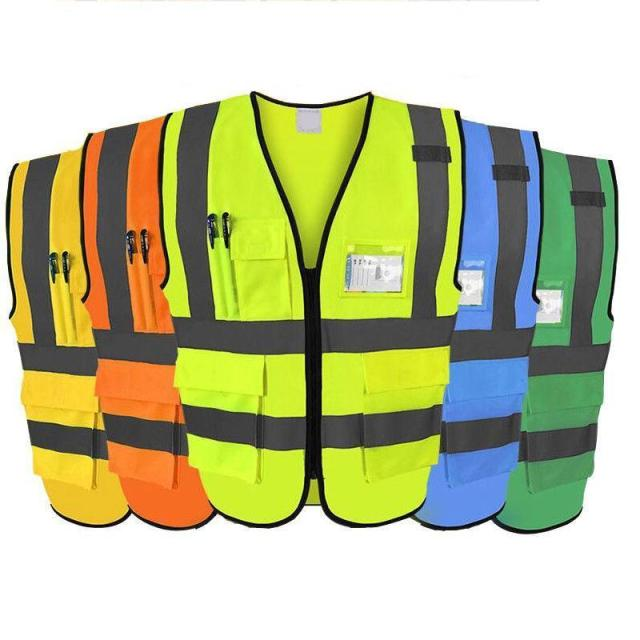Vest: (160, 88, 466, 525), (80, 117, 217, 533), (408, 120, 545, 530), (490, 150, 620, 532), (5, 144, 130, 527)
